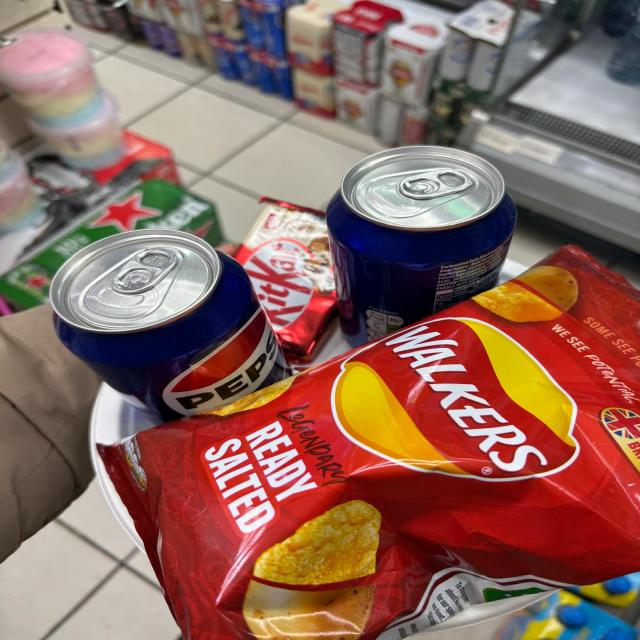crisp: (128, 262, 640, 640)
kitkat: (219, 194, 360, 354)
pepsi: (48, 242, 291, 438), (339, 148, 509, 338)
